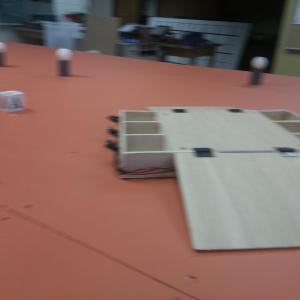blockA: (1, 87, 29, 115)
obstacle: (246, 54, 270, 88), (55, 46, 76, 78), (1, 39, 8, 67)
side: (108, 107, 162, 174), (262, 103, 300, 134)
slope: (180, 144, 300, 235), (166, 103, 249, 120)
